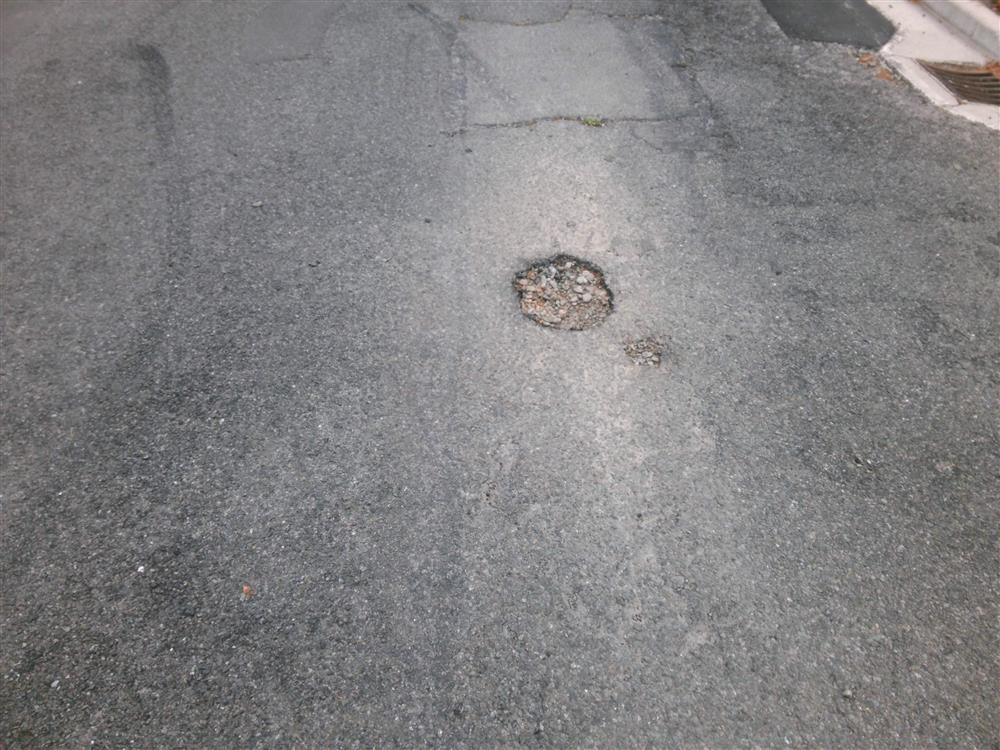pothole: (504, 249, 616, 339)
